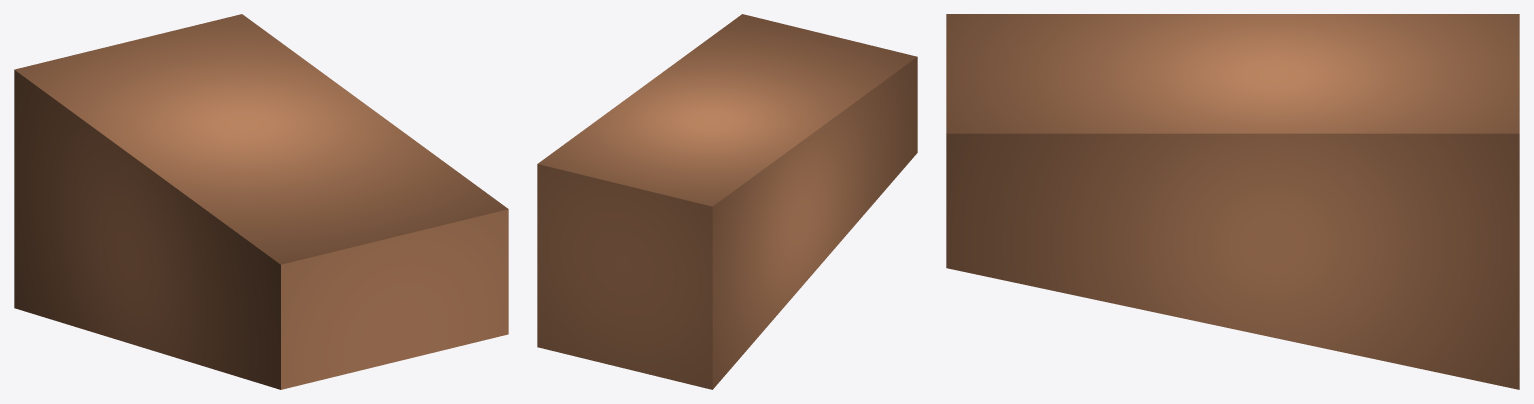
File: theatre.obj
3 renders of one model, left to right at view 1: azimuth 30°, elevation 25°; view 2: azimuth 150°, elevation 25°; view 3: azimuth 270°, elevation 25°, orthographic. The views are drawn at different scales.
Parts seen in each view (by area): view 1: Cube; view 2: Cube; view 3: Cube.
Part boxes in pixels (box(x1,y1,x2,y2)): Cube: box(14, 14, 508, 389); Cube: box(537, 14, 917, 389); Cube: box(946, 14, 1519, 389).
Size of the model in its own units: 16 by 16 by 32.42.
Materials: 2 (1 with a texture image).
